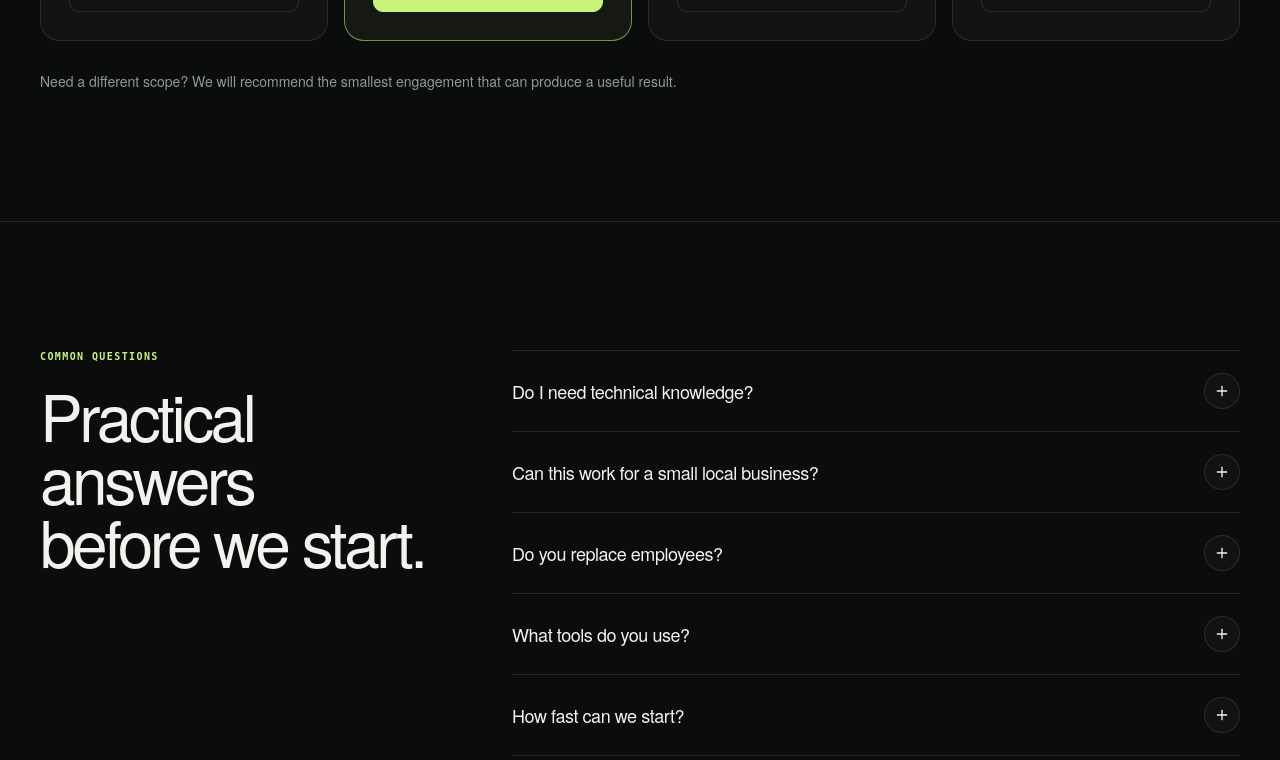
landing sections › opens FAQ answers accessibly
(page scrolled)
Click the button "Do I need technical knowledge?": (633, 391) [512, 351, 1240, 431]
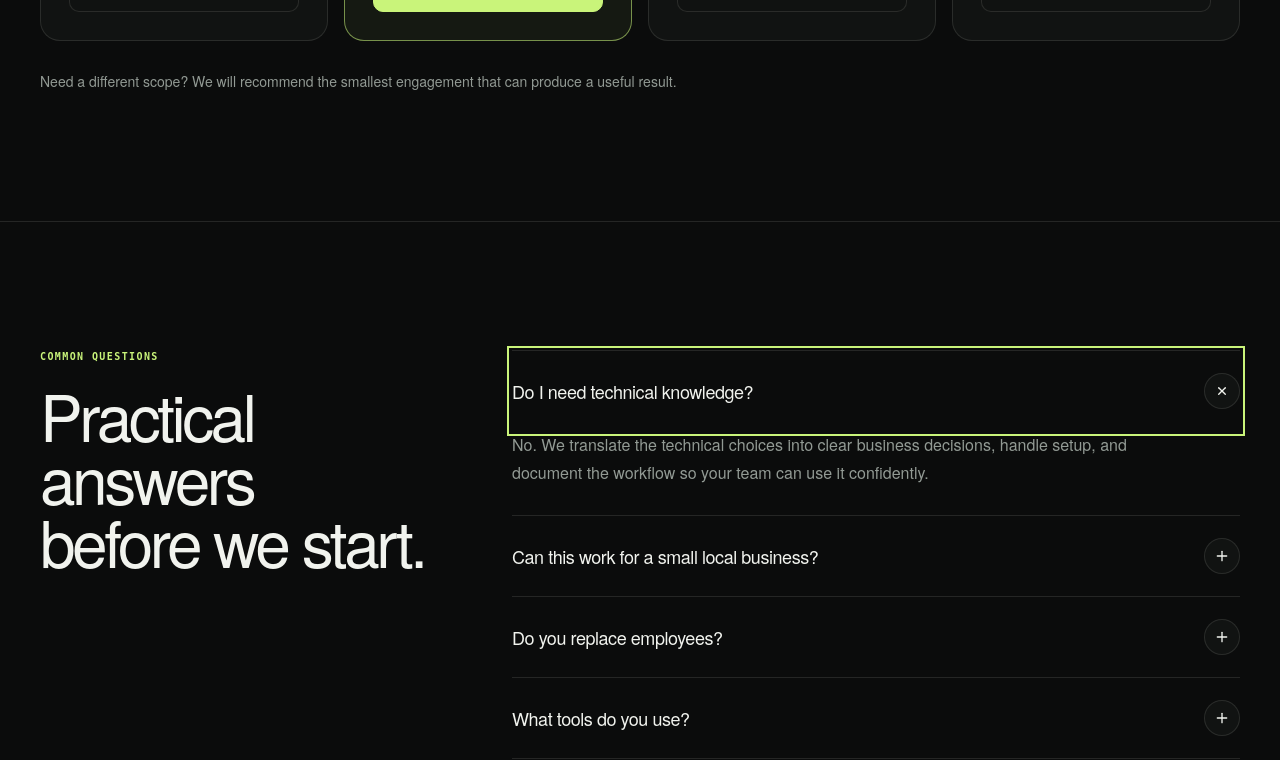
Check: the button "Do I need technical knowledge?" is expanded, box [512, 351, 1240, 431]
Check: the text "translate the technical choices into clear business decisions" is shown, box [512, 433, 1127, 484]
